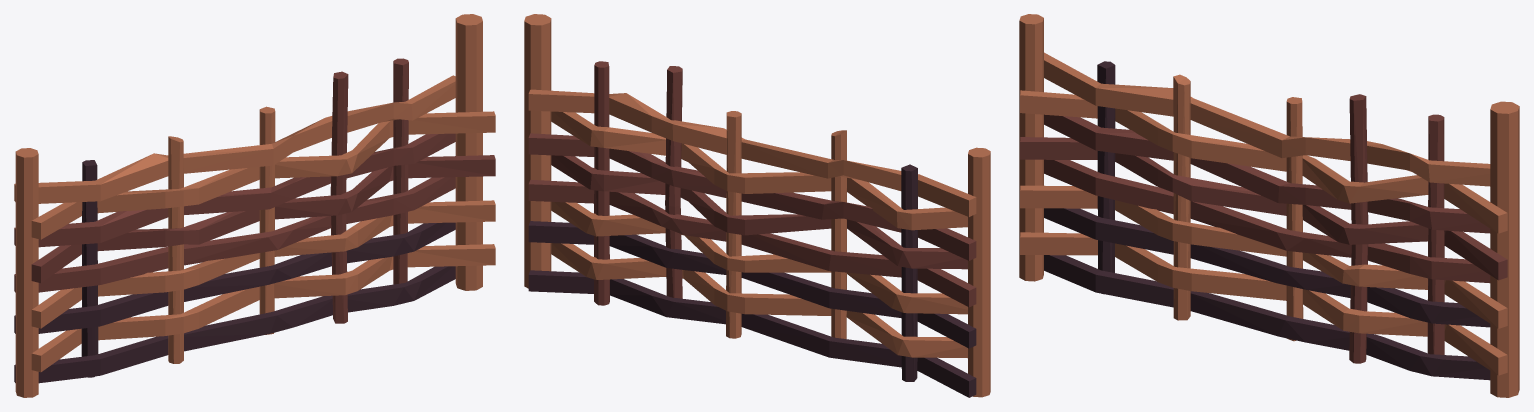
The model's file is Fence_Wooden_05.fbx.
3 views of the same model, side by side, from view 1: azimuth 30°, elevation 25°; view 2: azimuth 150°, elevation 25°; view 3: azimuth 330°, elevation 25° (orthographic). The views are drawn at different scales.
Visible parts, largest first — view 1: Fence_Wooden_05; view 2: Fence_Wooden_05; view 3: Fence_Wooden_05.
Boxes of the visible parts, x1,y1,x2,y2 form: Fence_Wooden_05: (14, 14, 495, 397); Fence_Wooden_05: (524, 14, 990, 397); Fence_Wooden_05: (1019, 14, 1519, 397).
Size of the model in its own units: 212 by 115 by 22.82.
